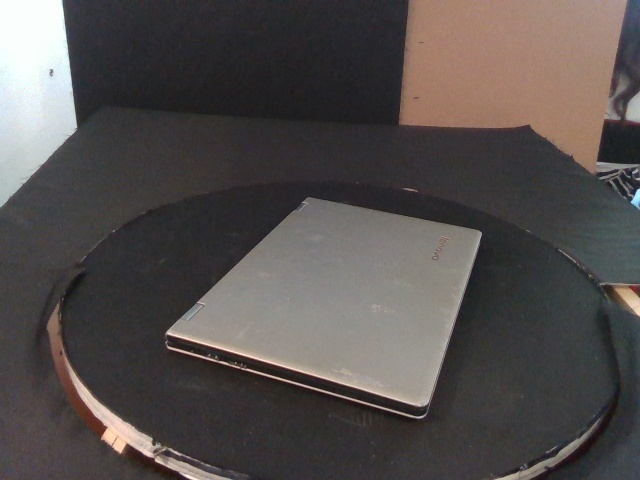laptop: (164, 196, 483, 419)
